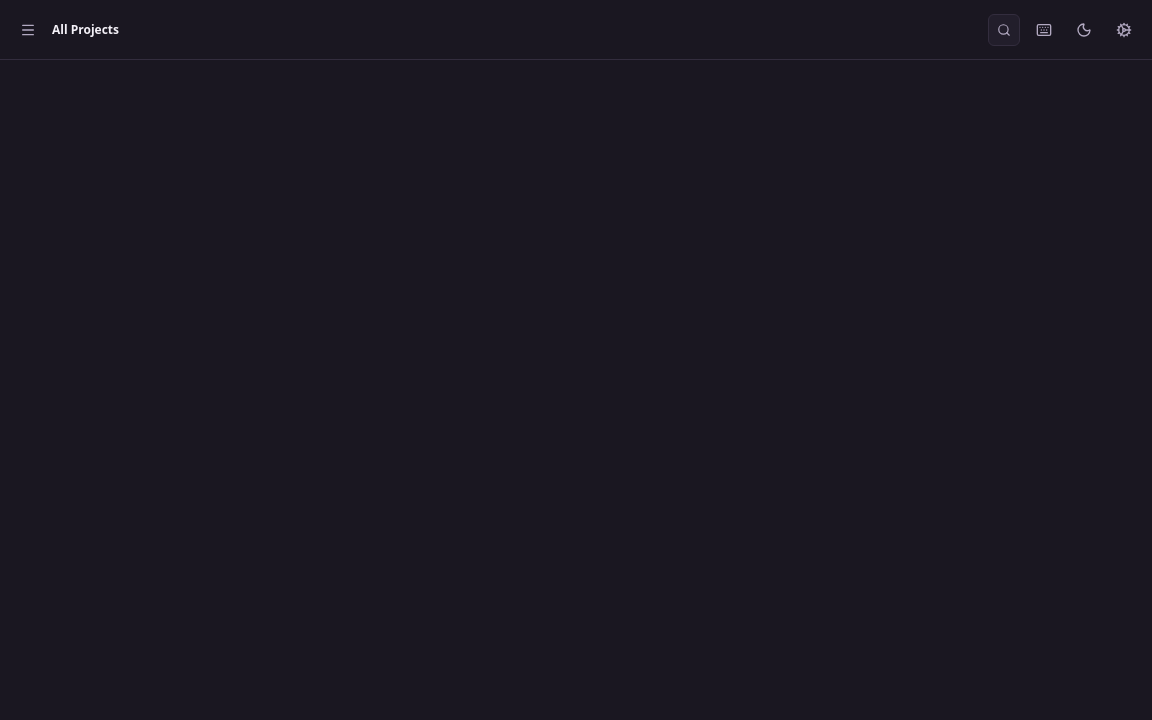
Test: the compact shell › keeps navigation reachable behind a control
The image size is (1152, 720).
Click the button named "open navigation".
click(28, 30)  # box [12, 14, 44, 46]
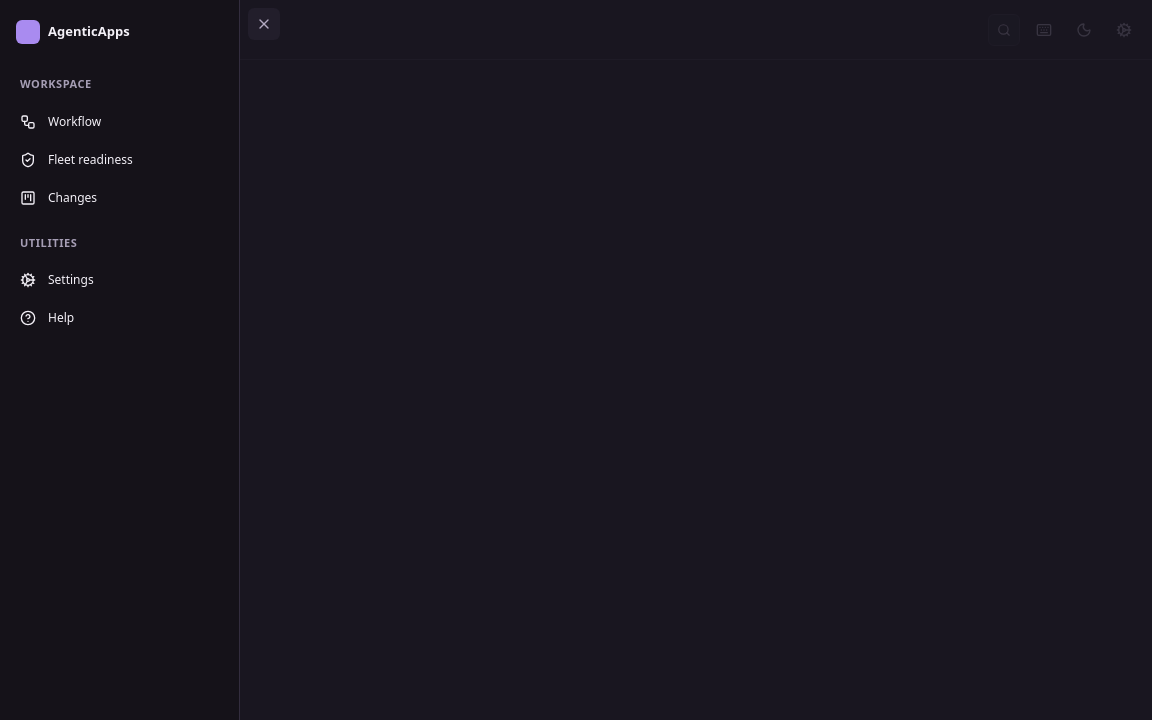
expect the element named "Primary navigation" is shown: met, box [0, 0, 240, 719]
